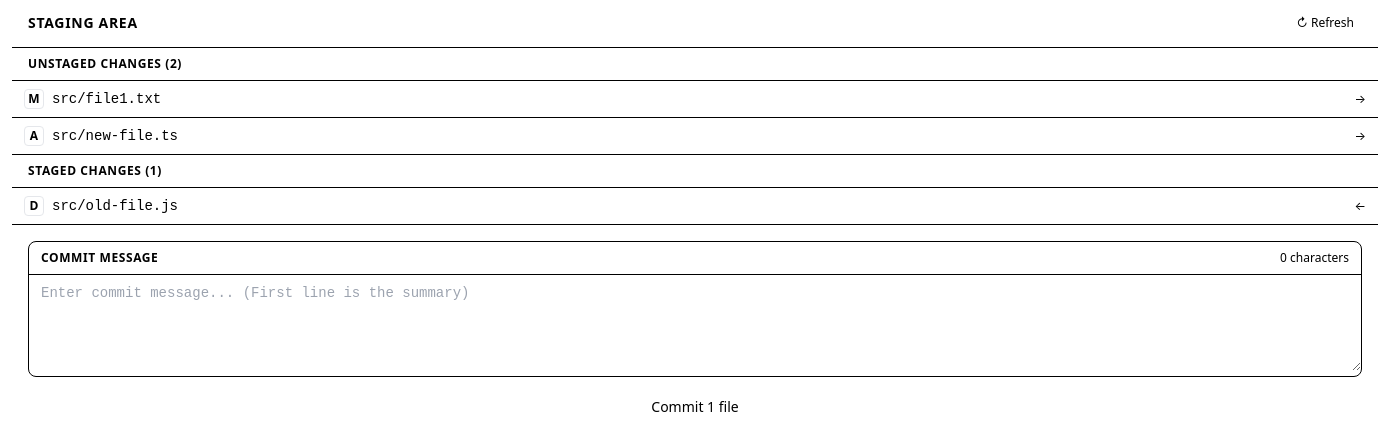
Test: StagingArea component › stages a file when clicking an unstaged file and updates lists
click to stage
Step 1. Click the text "src/file1.txt" → (107, 99), box [52,91,161,107]
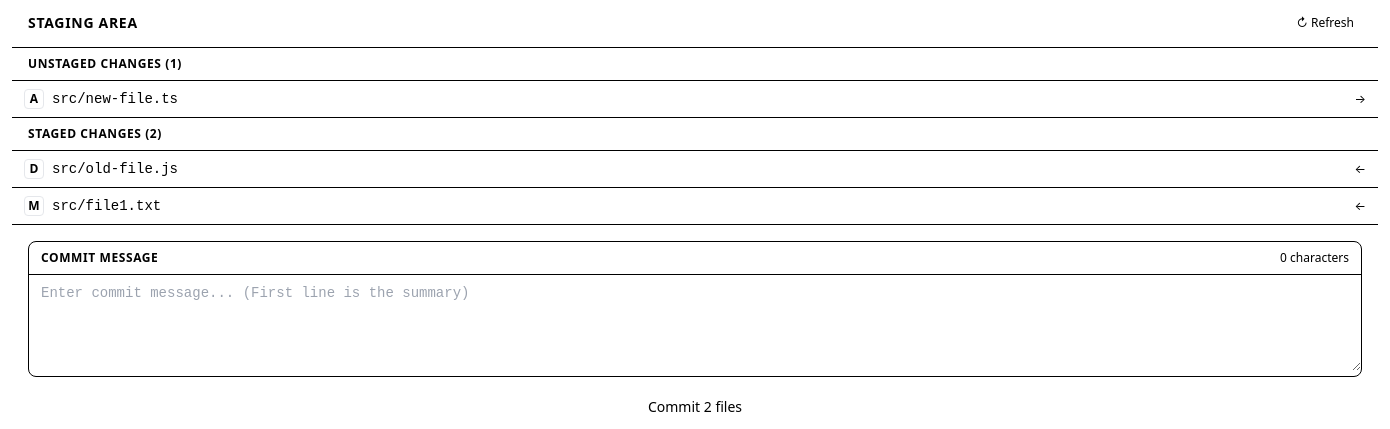
Check: the text "src/file1.txt" is shown, box [52,198,161,214]
Check: the heading "Unstaged Changes (1)" is shown, box [28,55,182,72]
Check: the heading "Staged Changes (2)" is shown, box [28,125,162,142]
